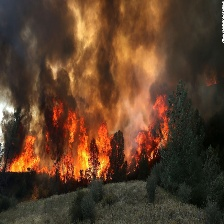fire: (52, 112, 92, 186), (136, 97, 170, 169), (94, 124, 119, 181), (6, 136, 44, 172)
smoke: (1, 2, 224, 113)
